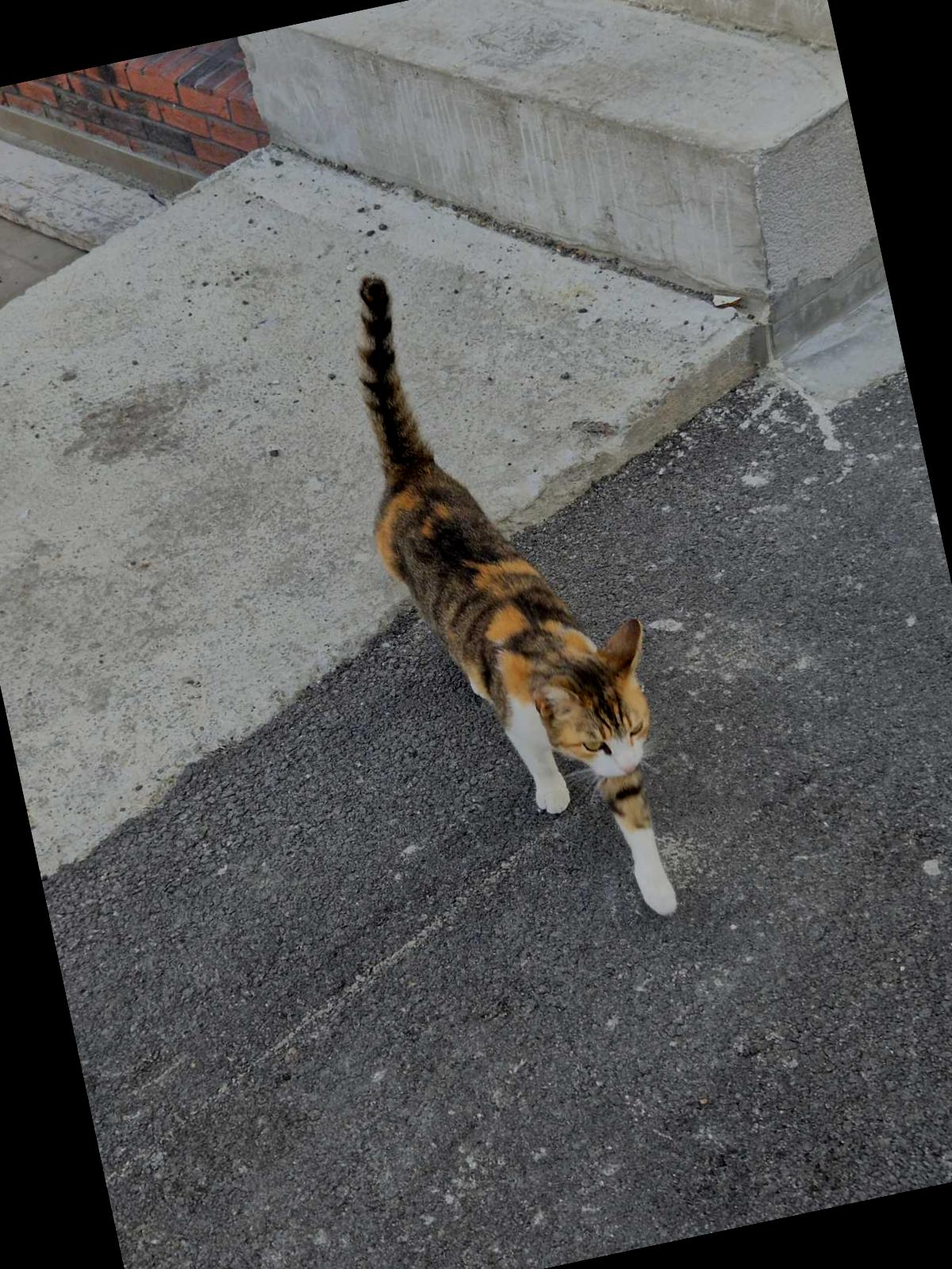macka: (319, 236, 704, 969)
